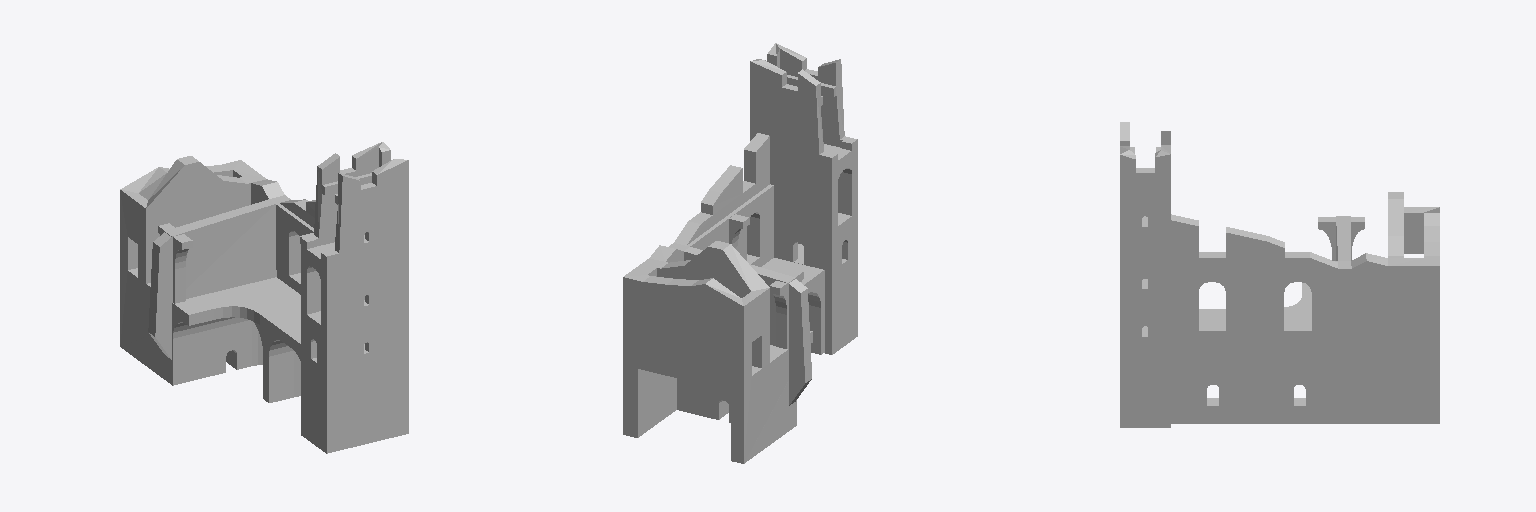
The model's file is cabine.obj.
3 views of the same model, side by side, from view 1: azimuth 30°, elevation 25°; view 2: azimuth 150°, elevation 25°; view 3: azimuth 270°, elevation 25° (orthographic).
Parts seen in each view (by area): view 1: Box010_Mesh; view 2: Box010_Mesh; view 3: Box010_Mesh.
Boxes of the visible parts, x1=… form: Box010_Mesh: x1=120, y1=142, x2=408, y2=453; Box010_Mesh: x1=623, y1=43, x2=857, y2=463; Box010_Mesh: x1=1120, y1=122, x2=1439, y2=427.
Size of the model in its own units: 9.26 by 16.7 by 17.69.